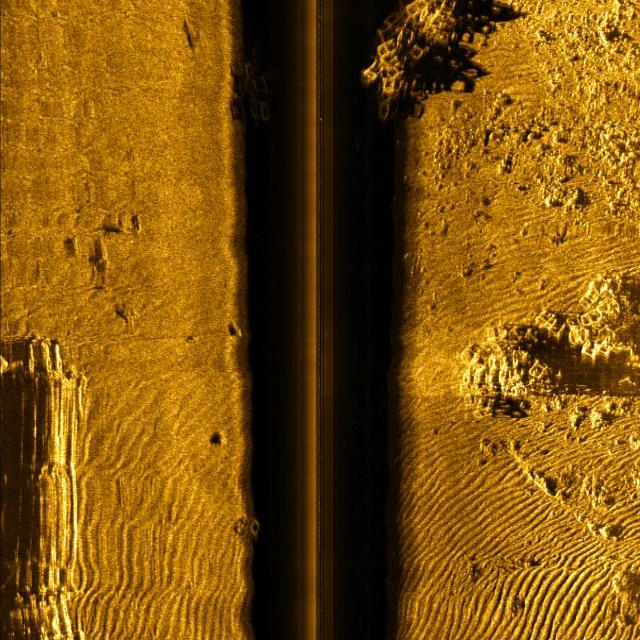artificial reef: (463, 289, 625, 425), (366, 0, 467, 117), (228, 51, 300, 156), (225, 511, 259, 539)
